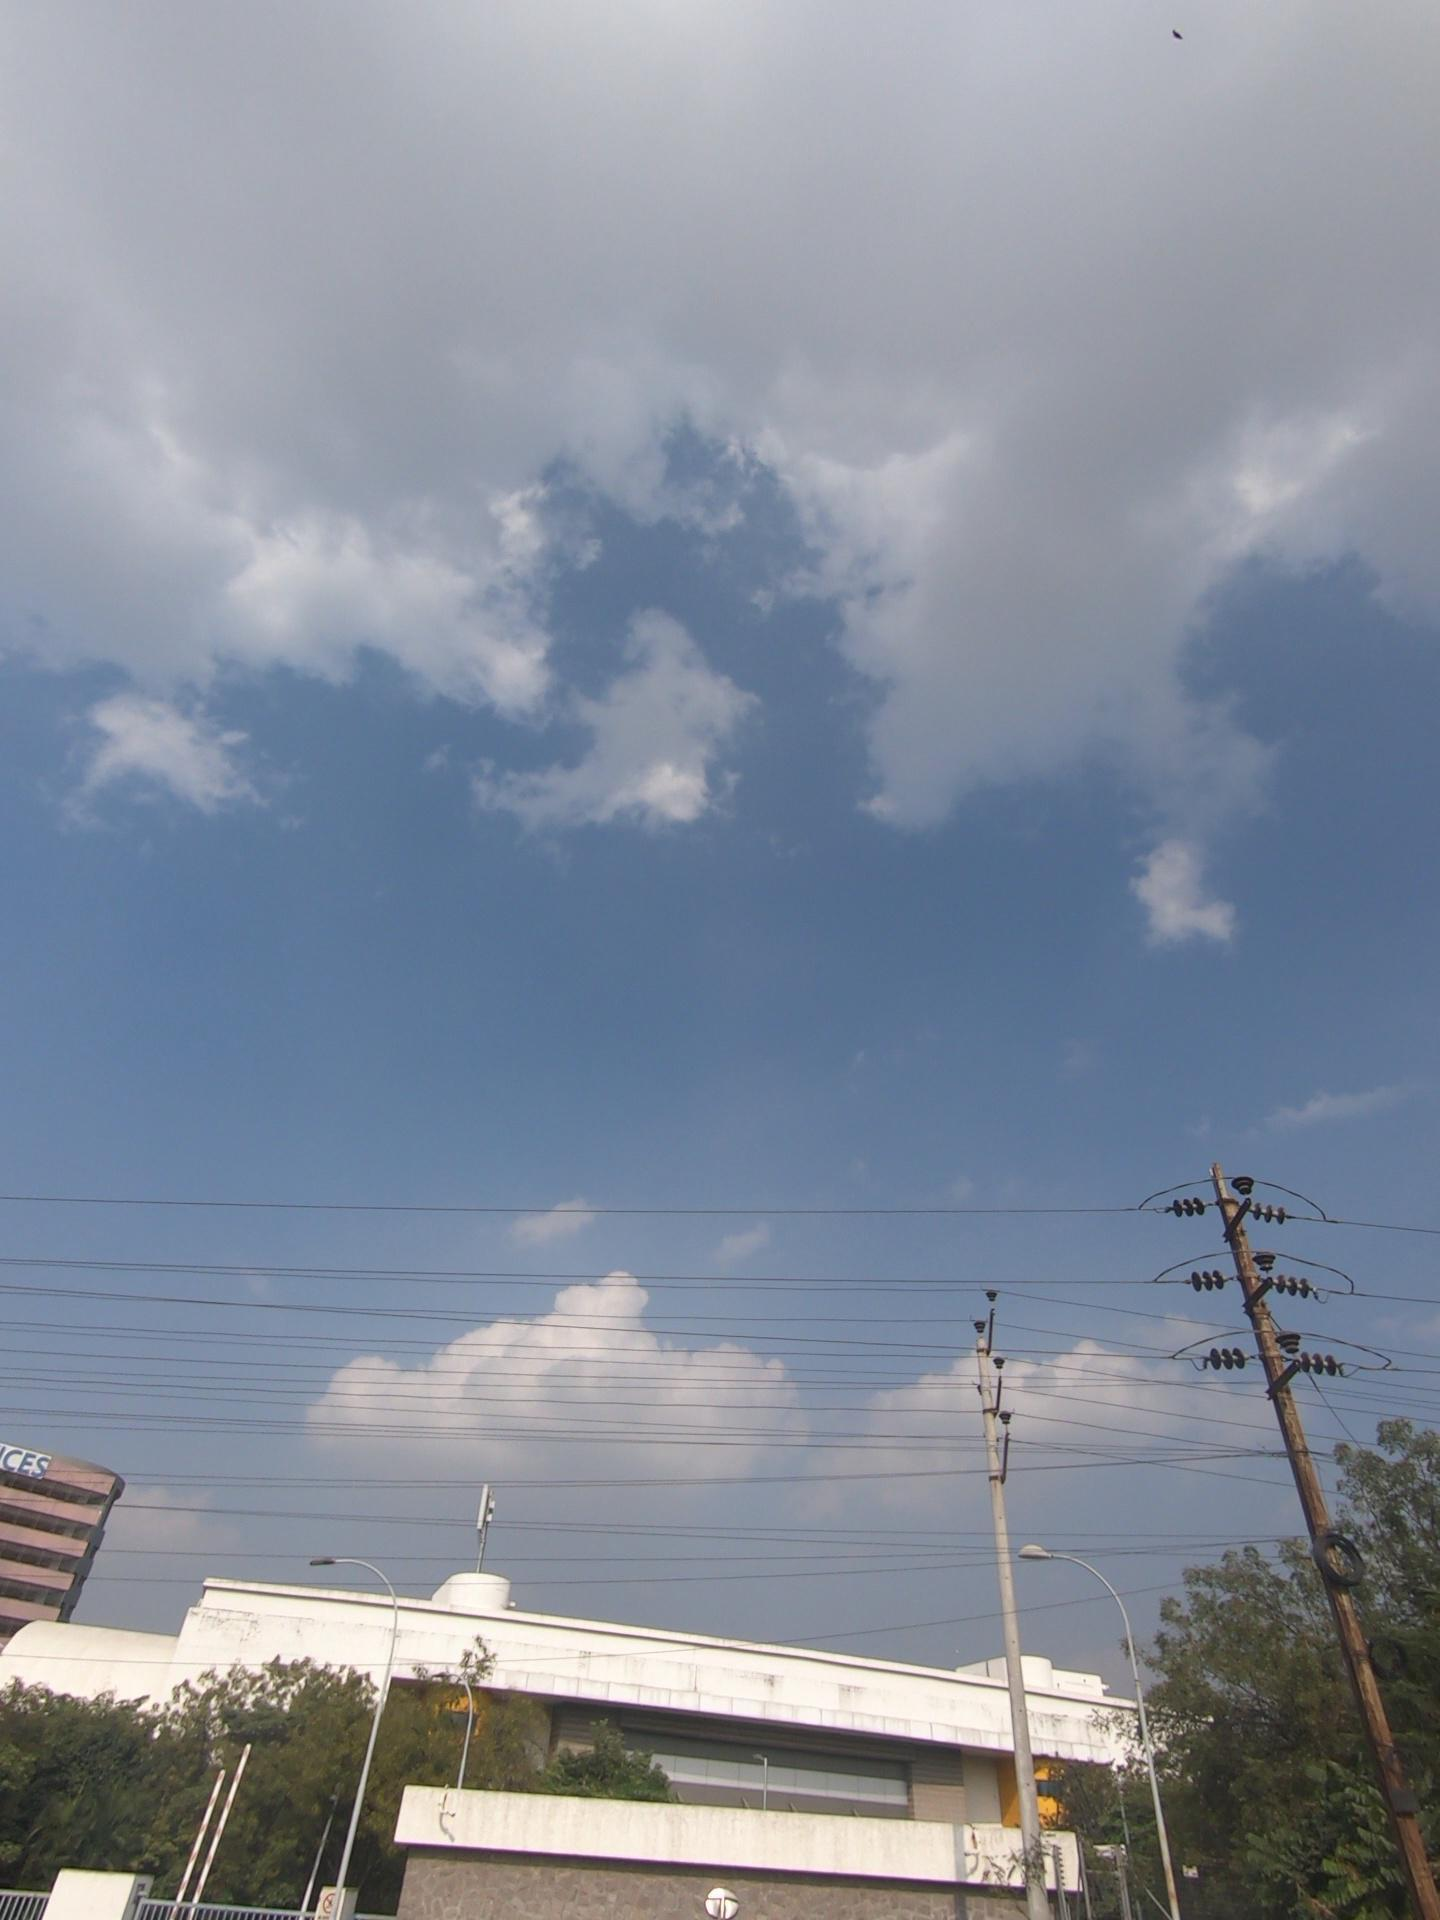off: (141, 1686, 455, 1908)
